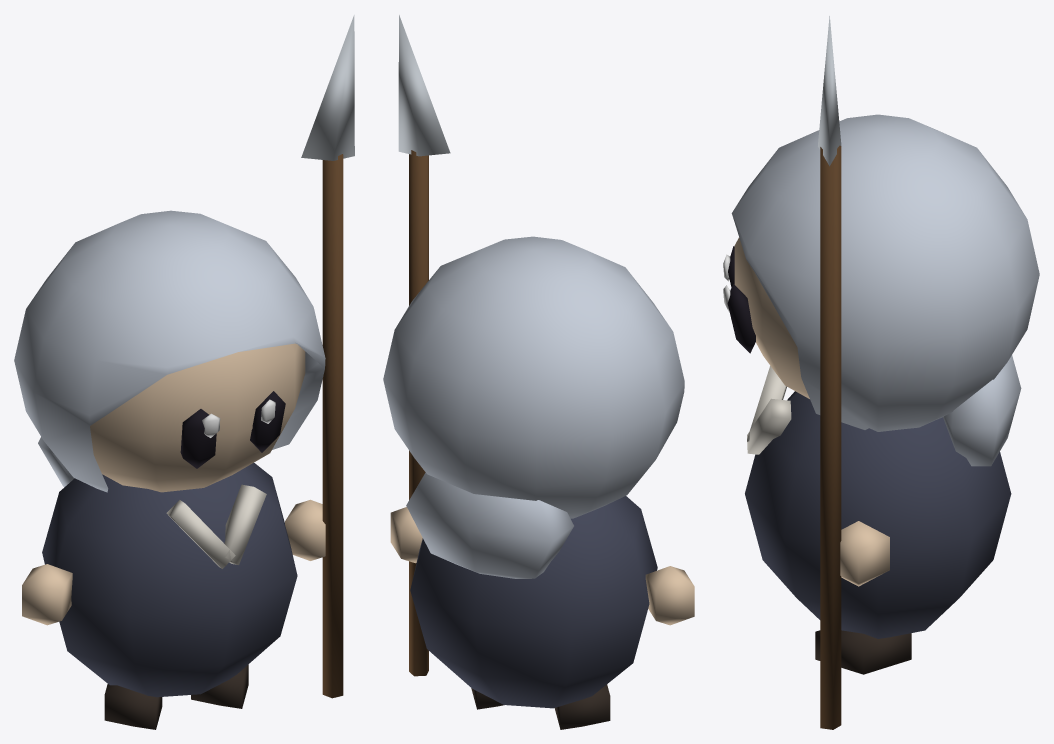
The model's file is sohei.glb.
The picture shows the model from 3 angles, left to right: view 1: azimuth 30°, elevation 25°; view 2: azimuth 150°, elevation 25°; view 3: azimuth 270°, elevation 25°; orthographic projection. The views are drawn at different scales.
Parts seen in each view (by area): view 1: Sohei; view 2: Sohei; view 3: Sohei.
Part boxes in pixels (x1,y1,x2,y2): Sohei: (14, 15, 354, 729); Sohei: (383, 15, 694, 729); Sohei: (723, 16, 1039, 729).
Bounding box in the file's own units: 0.8158 × 1.65 × 0.6542.
